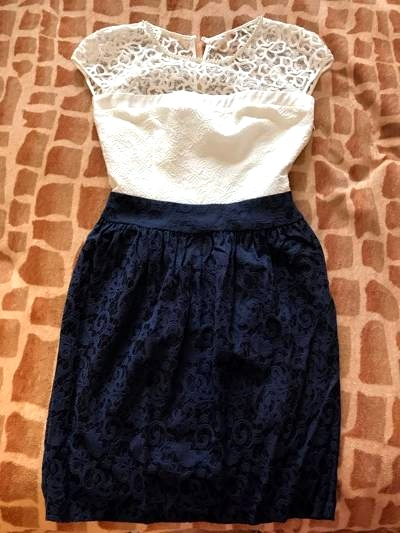Dress: (40, 5, 362, 524)
